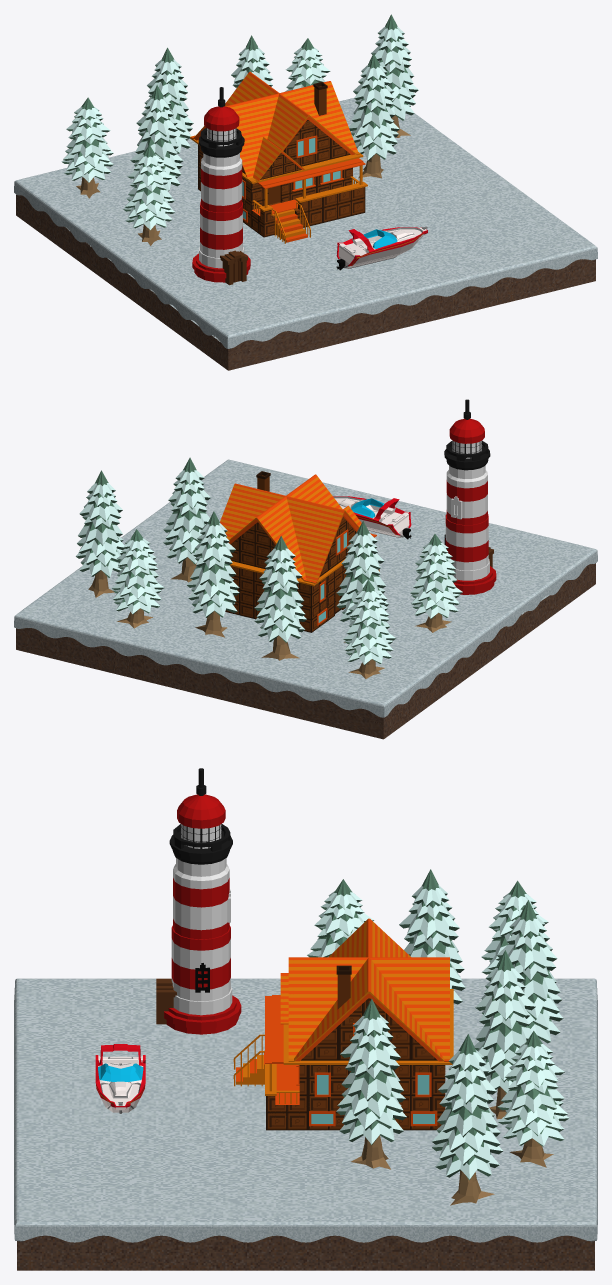
The picture shows the model from 3 angles, top to bottom: view 1: azimuth 30°, elevation 25°; view 2: azimuth 150°, elevation 25°; view 3: azimuth 270°, elevation 25°; orthographic projection. The views are drawn at different scales.
Parts seen in each view (by area): view 1: Cube.003, Cube, OBJRANDOM_LIGHTHOUSE, VEHICLES_BOAT; view 2: Cube.003, Cube, OBJRANDOM_LIGHTHOUSE, VEHICLES_BOAT; view 3: Cube.003, Cube, OBJRANDOM_LIGHTHOUSE, VEHICLES_BOAT.
Part boxes in pixels (bbox=[...]): Cube.003: bbox=[14, 14, 597, 370]; Cube: bbox=[190, 71, 367, 243]; OBJRANDOM_LIGHTHOUSE: bbox=[192, 87, 250, 285]; VEHICLES_BOAT: bbox=[336, 226, 427, 270]; Cube.003: bbox=[14, 457, 597, 739]; Cube: bbox=[220, 471, 379, 632]; OBJRANDOM_LIGHTHOUSE: bbox=[444, 399, 496, 594]; VEHICLES_BOAT: bbox=[333, 496, 411, 539]; Cube.003: bbox=[14, 869, 597, 1270]; Cube: bbox=[233, 918, 453, 1130]; OBJRANDOM_LIGHTHOUSE: bbox=[156, 768, 241, 1034]; VEHICLES_BOAT: bbox=[95, 1044, 145, 1113].
Size of the model in its own units: 4040 by 2354 by 4040.
Materials: 26 (4 with a texture image).
